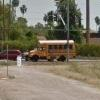Bus: (24, 34, 89, 68)
